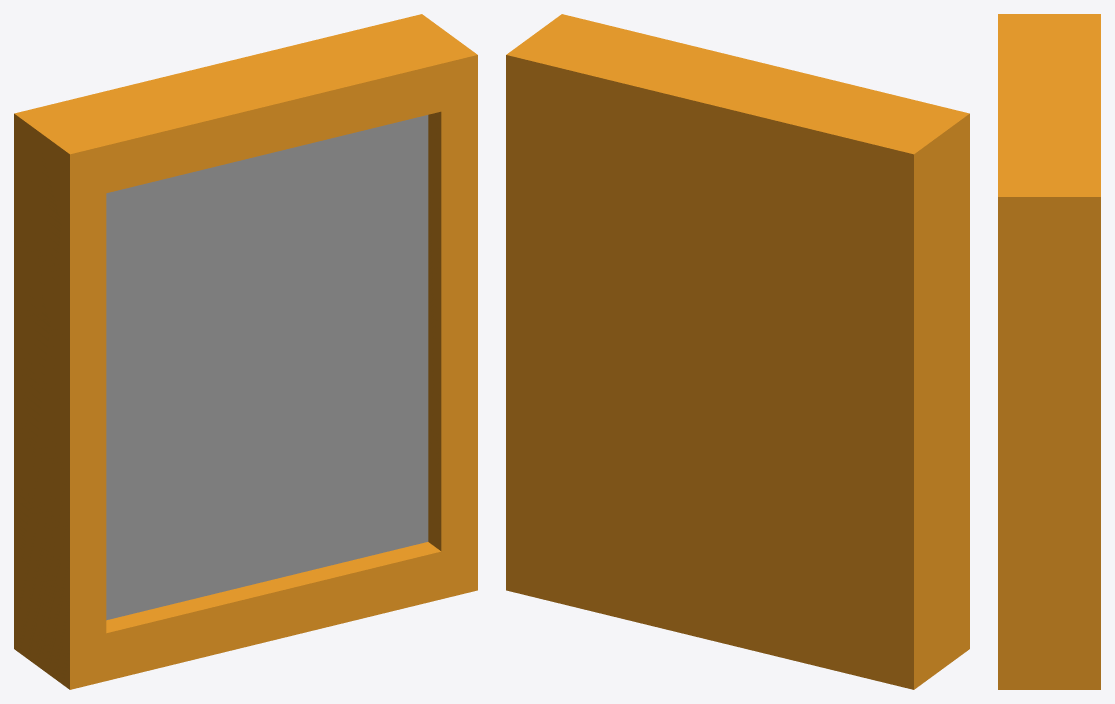
The model's file is Bien_quan_cao_Burger_1.fbx.
3 renders of one model, left to right at view 1: azimuth 30°, elevation 25°; view 2: azimuth 150°, elevation 25°; view 3: azimuth 270°, elevation 25°, orthographic. The views are drawn at different scales.
Visible parts, largest first — view 1: Bien_quan_cao_Burger_1; view 2: Bien_quan_cao_Burger_1; view 3: Bien_quan_cao_Burger_1.
Boxes of the visible parts, bbox=[...] form: Bien_quan_cao_Burger_1: bbox=[14, 14, 477, 689]; Bien_quan_cao_Burger_1: bbox=[506, 14, 969, 689]; Bien_quan_cao_Burger_1: bbox=[998, 14, 1100, 689].
Bounding box in the file's own units: 140 × 176 × 33.19.
